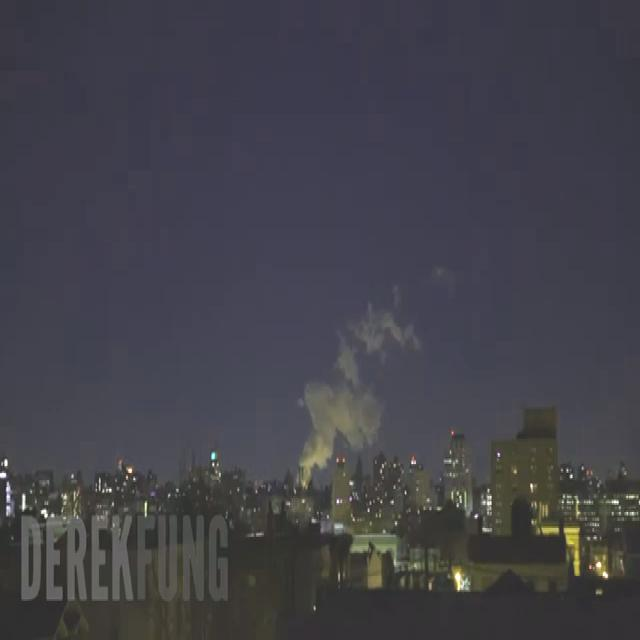smoke: (300, 288, 420, 476)
